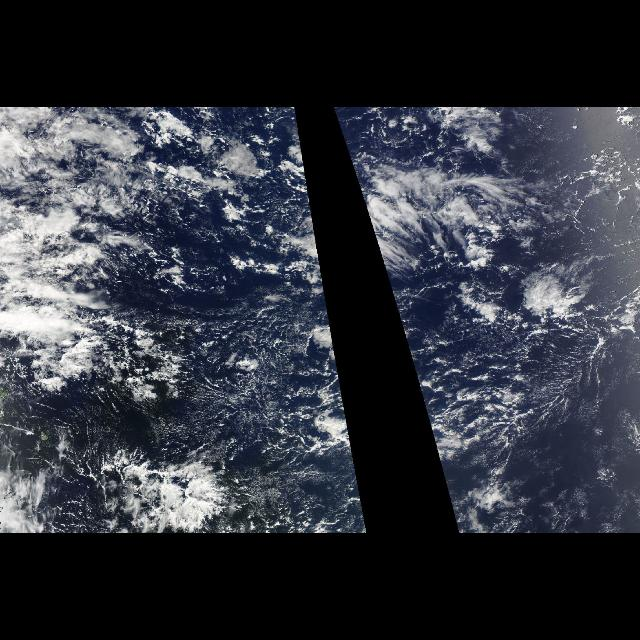Gravel: (392, 294, 598, 480), (174, 294, 358, 480)
Sugar: (173, 307, 307, 461)
